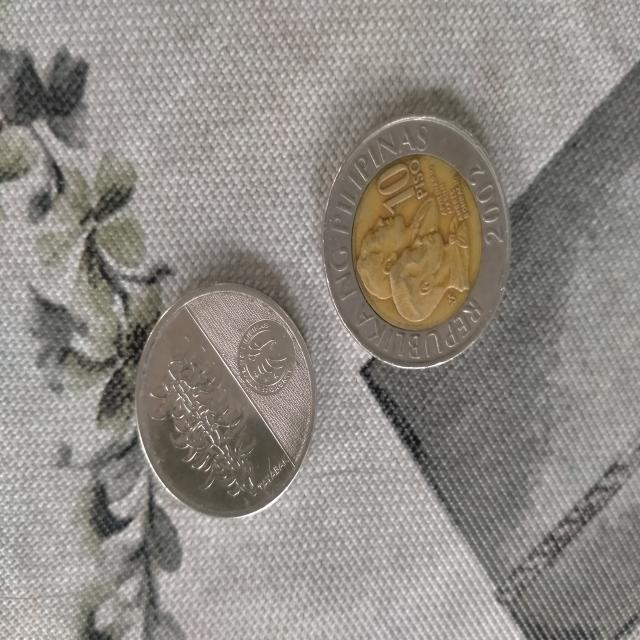10_Old_Front: (371, 144, 437, 223)
5_New_Back: (148, 343, 254, 503)
